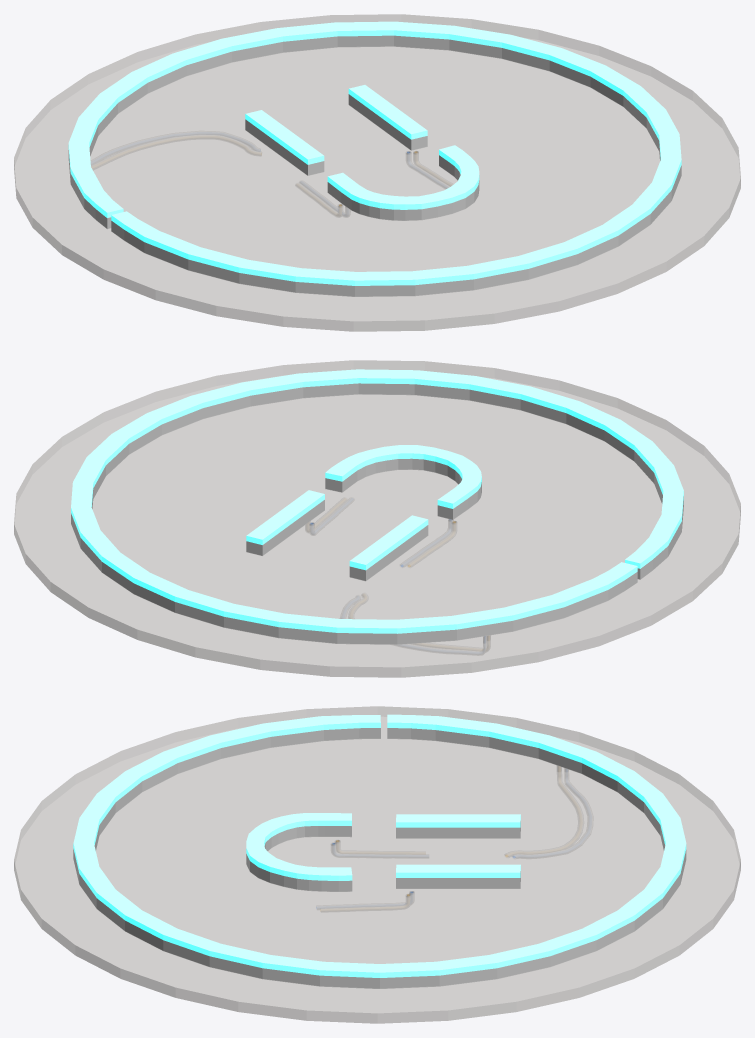
File: smily.glb
3 views of the same model, one above another, from view 1: azimuth 30°, elevation 25°; view 2: azimuth 150°, elevation 25°; view 3: azimuth 270°, elevation 25° (orthographic).
Visible parts, largest first — view 1: Circle.026, Plane.011, Circle.028, Circle.027; view 2: Circle.026, Plane.011, Circle.027, Circle.028; view 3: Circle.026, Plane.011, Circle.027, Circle.028.
Part boxes in pixels (x1,y1,x2,y2): Circle.026: (14,14,740,331); Plane.011: (68,21,681,296); Circle.028: (91,135,452,217); Circle.027: (91,131,449,217); Circle.026: (14,360,740,677); Plane.011: (71,369,683,644); Circle.027: (309,497,486,655); Circle.028: (305,498,490,651); Circle.026: (14,706,740,1023); Plane.011: (73,714,686,988); Circle.027: (316,768,592,909); Circle.028: (320,766,583,911).
Bounding box in the file's own units: 1.18 × 0.0709 × 1.18.
